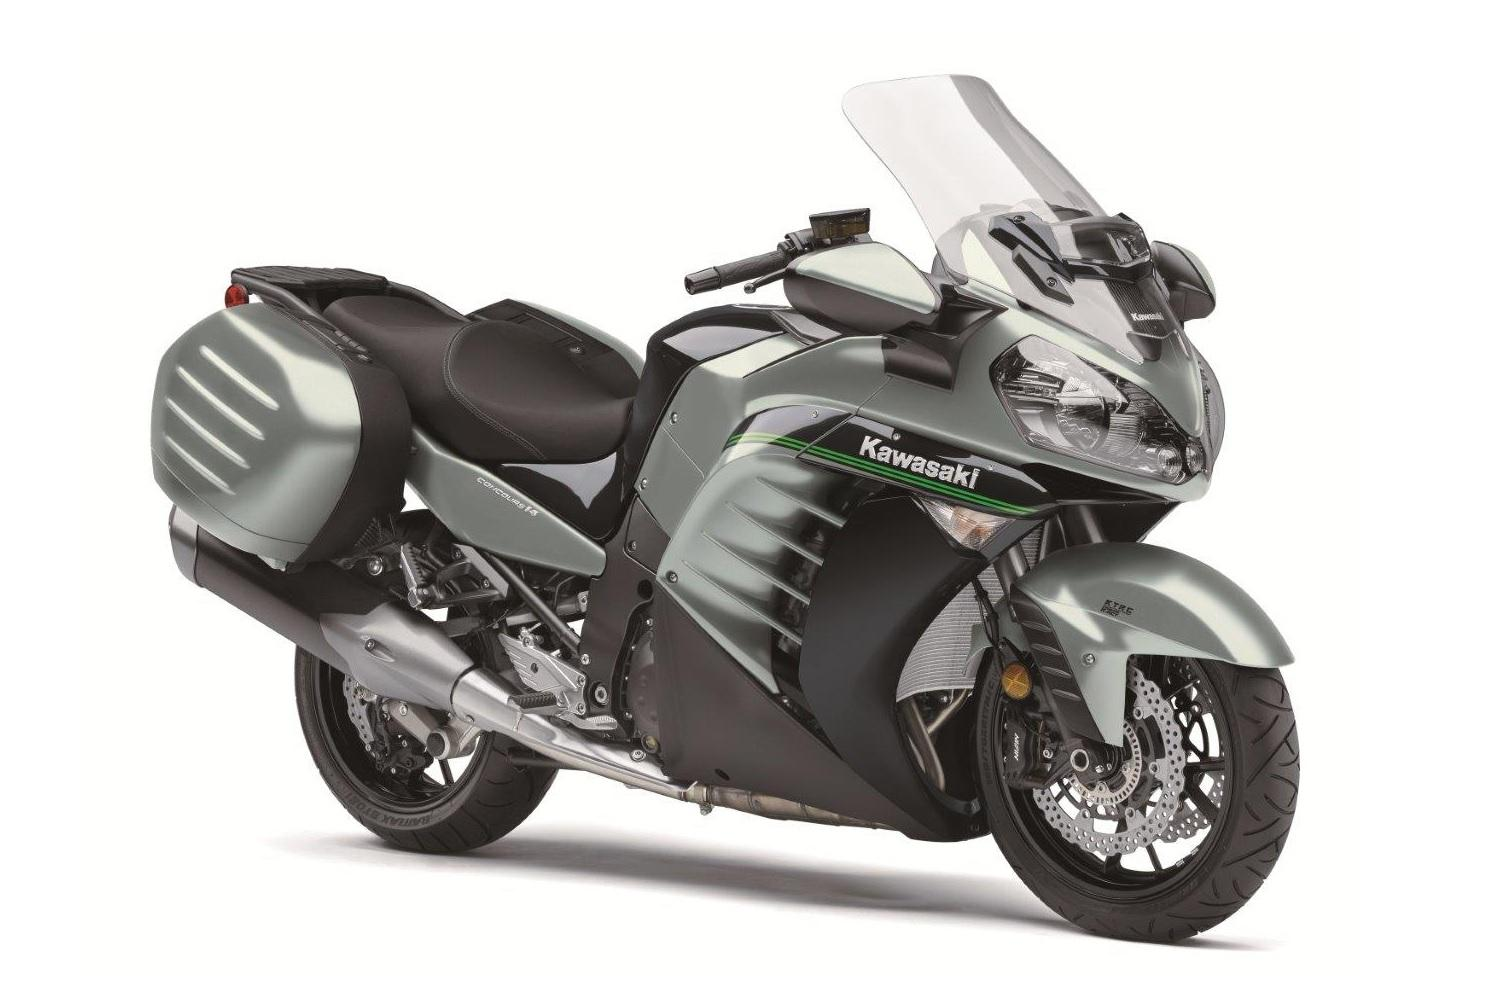Motorcycle: (116, 138, 1354, 939)
